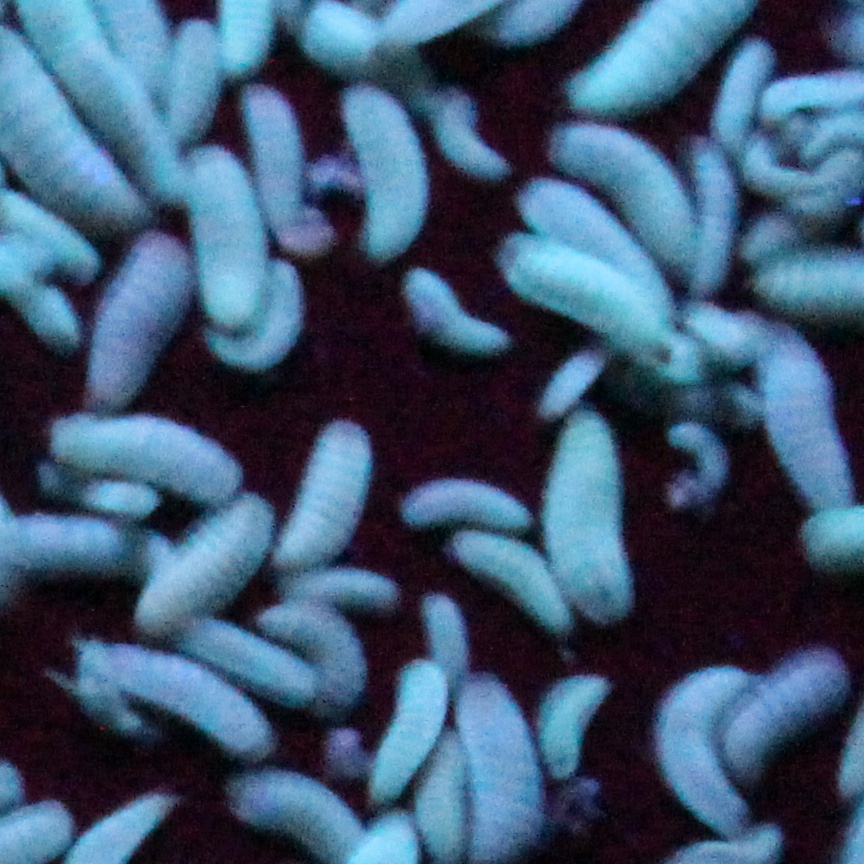larve: (75, 627, 278, 767), (540, 111, 704, 280), (530, 404, 650, 624), (491, 229, 673, 356), (78, 230, 200, 419), (641, 650, 758, 836), (749, 320, 854, 521), (133, 490, 275, 628), (38, 413, 253, 501), (718, 638, 844, 781), (335, 74, 431, 261), (274, 413, 383, 576), (232, 73, 326, 251), (442, 523, 578, 639), (219, 773, 383, 858), (395, 264, 518, 364), (393, 465, 549, 541), (535, 664, 619, 791), (365, 655, 439, 791)
